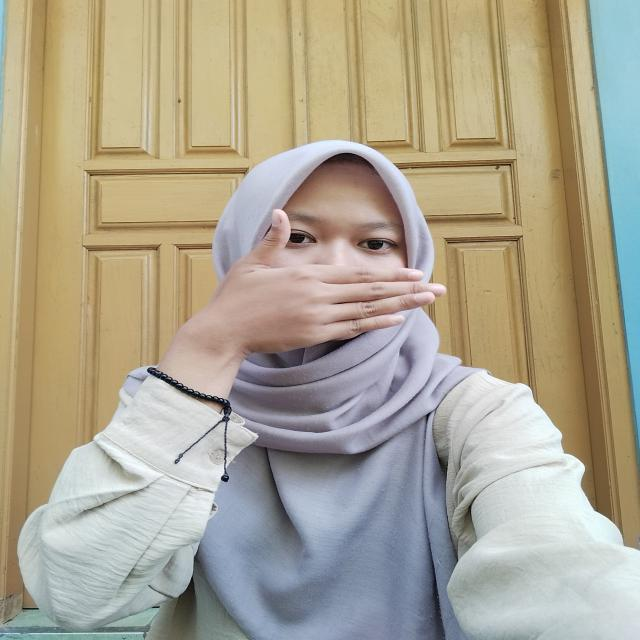buruk: (135, 228, 452, 384)
